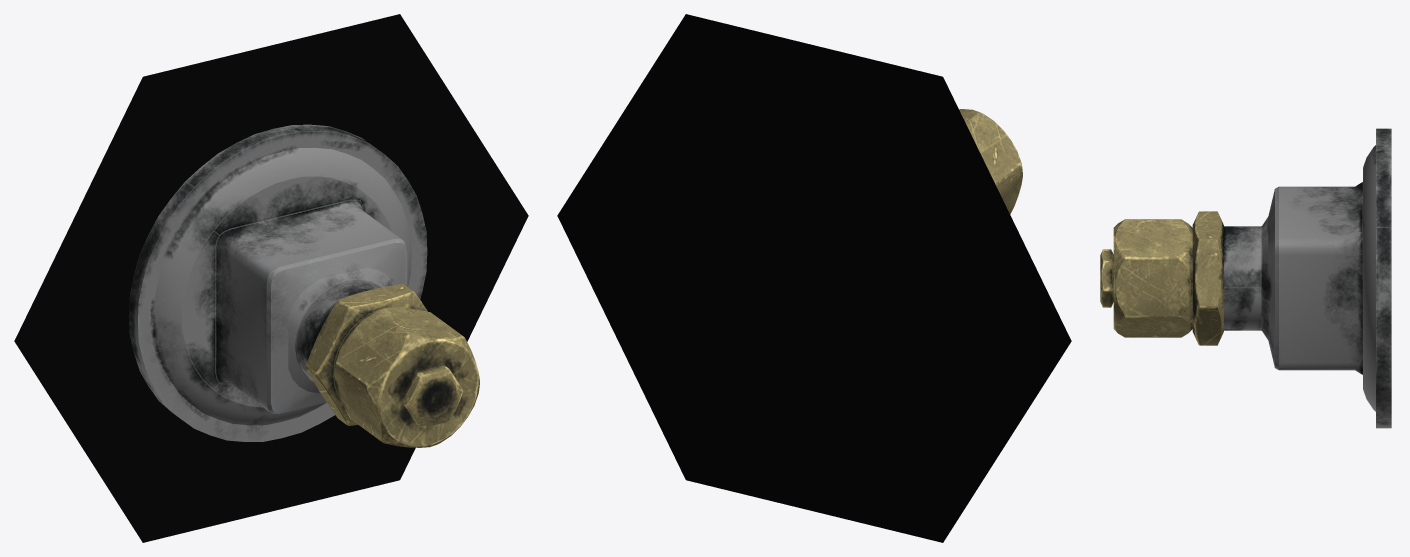
Rendered from Valve_base.fbx.
The picture shows the model from 3 angles, left to right: view 1: azimuth 30°, elevation 25°; view 2: azimuth 150°, elevation 25°; view 3: azimuth 270°, elevation 25°; orthographic projection. The views are drawn at different scales.
Visible parts, largest first — view 1: pCylinder29, valvebase; view 2: pCylinder29, valvebase; view 3: valvebase.
Boxes of the visible parts, bbox=[...] form: pCylinder29: bbox=[14, 14, 528, 542]; valvebase: bbox=[129, 124, 479, 447]; pCylinder29: bbox=[557, 14, 1071, 542]; valvebase: bbox=[959, 109, 1022, 214]; valvebase: bbox=[1100, 128, 1391, 428].
Size of the model in its own units: 313 by 271 by 174.
2 materials, 1 textured.
